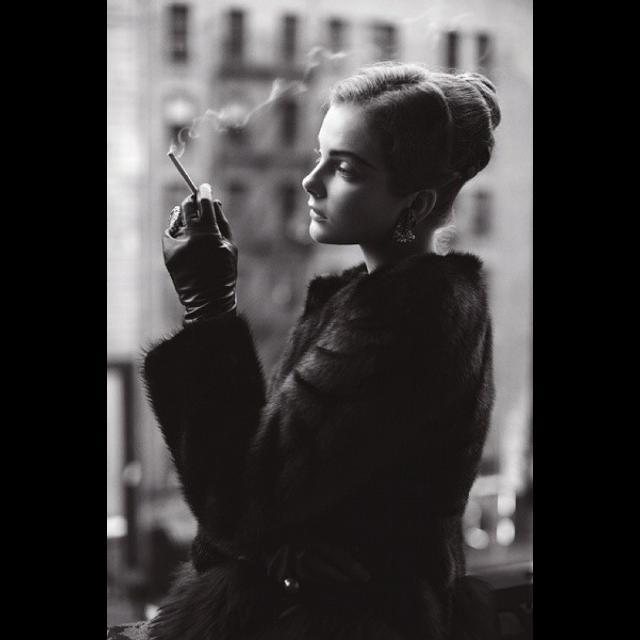rokok: (170, 150, 202, 200)
